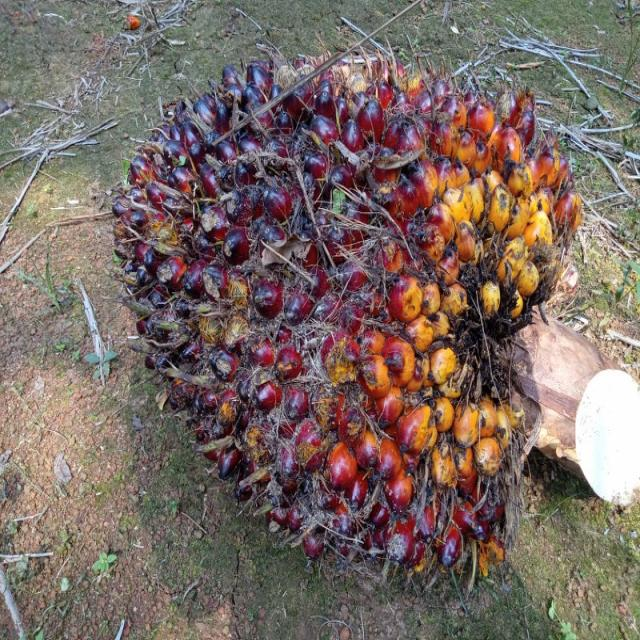fraksi 1: (104, 15, 618, 611)
